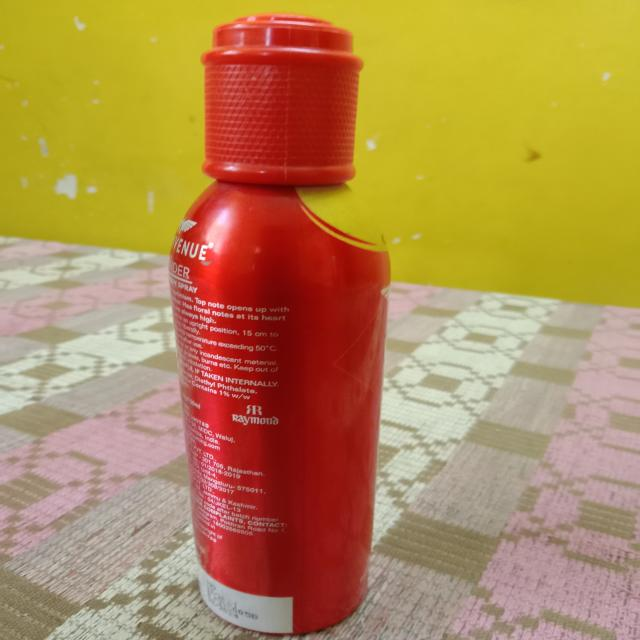deodorant: (158, 16, 396, 630)
